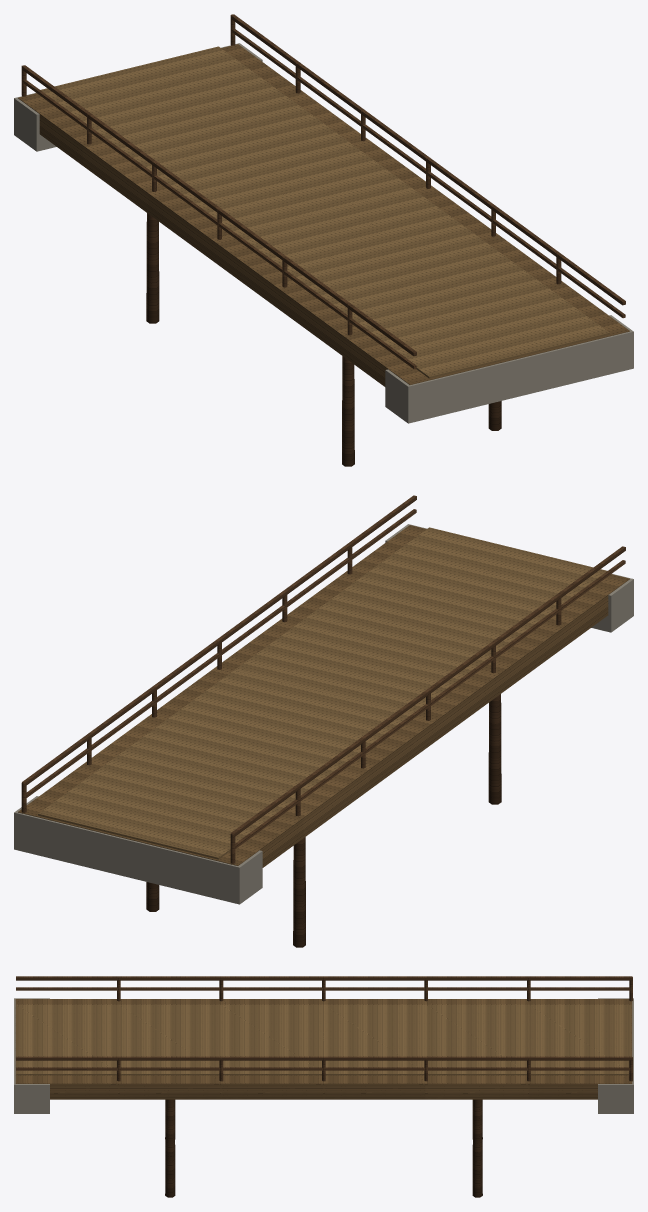
Rendered from ponte_de_madeira.glb.
3 renders of one model, top to bottom at view 1: azimuth 30°, elevation 25°; view 2: azimuth 150°, elevation 25°; view 3: azimuth 270°, elevation 25°, orthographic. The views are drawn at different scales.
Visible parts, largest first — view 1: ponte_de_madeira_madeira, ponte_de_madeira; view 2: ponte_de_madeira_madeira, ponte_de_madeira; view 3: ponte_de_madeira_madeira, ponte_de_madeira.
Boxes of the visible parts, x1,y1,x2,y2 form: ponte_de_madeira_madeira: [18, 14, 629, 466]; ponte_de_madeira: [14, 43, 633, 423]; ponte_de_madeira_madeira: [18, 495, 629, 947]; ponte_de_madeira: [14, 524, 633, 904]; ponte_de_madeira_madeira: [15, 976, 632, 1197]; ponte_de_madeira: [14, 998, 633, 1113].
Bounding box in the file's own units: 8 × 6.48 × 24.2.
Materials: 2 (1 with a texture image).
